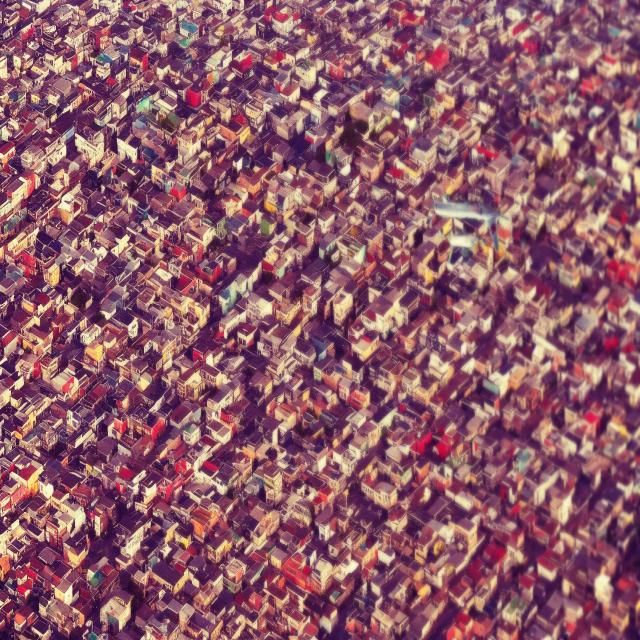airplane: (430, 188, 501, 264)
